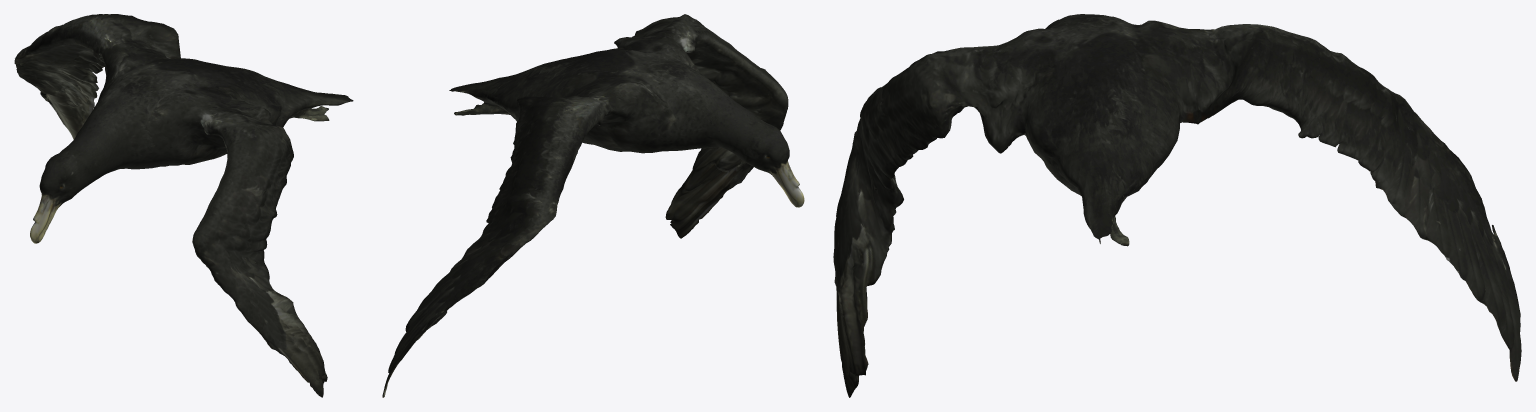
File: petrelgigante.obj
The picture shows the model from 3 angles, left to right: view 1: azimuth 30°, elevation 25°; view 2: azimuth 150°, elevation 25°; view 3: azimuth 270°, elevation 25°; orthographic projection. The views are drawn at different scales.
Parts seen in each view (by area): view 1: polySurface1; view 2: polySurface1; view 3: polySurface1.
Part boxes in pixels (bbox=[...]): polySurface1: bbox=[14, 14, 353, 397]; polySurface1: bbox=[382, 14, 804, 397]; polySurface1: bbox=[833, 14, 1521, 397].
Size of the model in its own units: 712 by 545 by 1006.
